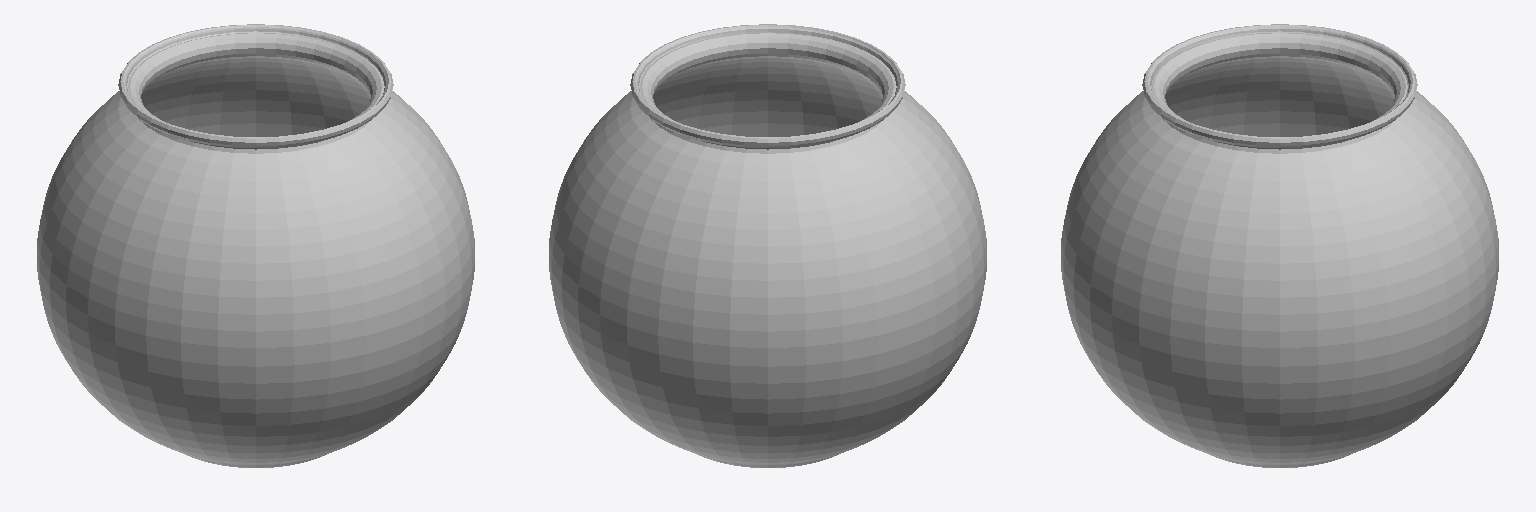
The model's file is peceravidrio.obj.
3 views of the same model, side by side, from view 1: azimuth 30°, elevation 25°; view 2: azimuth 150°, elevation 25°; view 3: azimuth 270°, elevation 25° (orthographic).
Parts seen in each view (by area): view 1: lego5y6y7:peceravidrio:group1group1 group252 group250 group251; view 2: lego5y6y7:peceravidrio:group1group1 group252 group250 group251; view 3: lego5y6y7:peceravidrio:group1group1 group252 group250 group251.
Part boxes in pixels (x1,y1,x2,y2): lego5y6y7:peceravidrio:group1group1 group252 group250 group251: (37,24,474,467); lego5y6y7:peceravidrio:group1group1 group252 group250 group251: (549,24,986,467); lego5y6y7:peceravidrio:group1group1 group252 group250 group251: (1061,24,1498,467).
Size of the model in its own units: 0.793 by 0.6975 by 0.793.